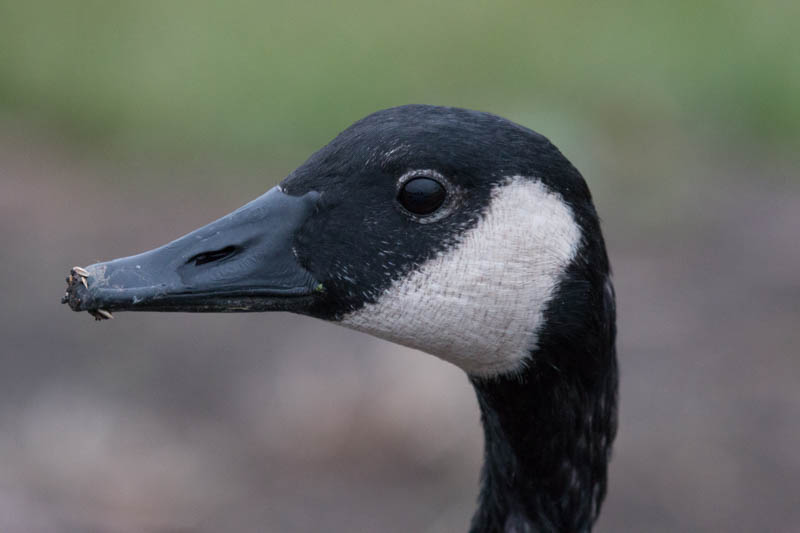goose-head: (59, 103, 620, 384)
